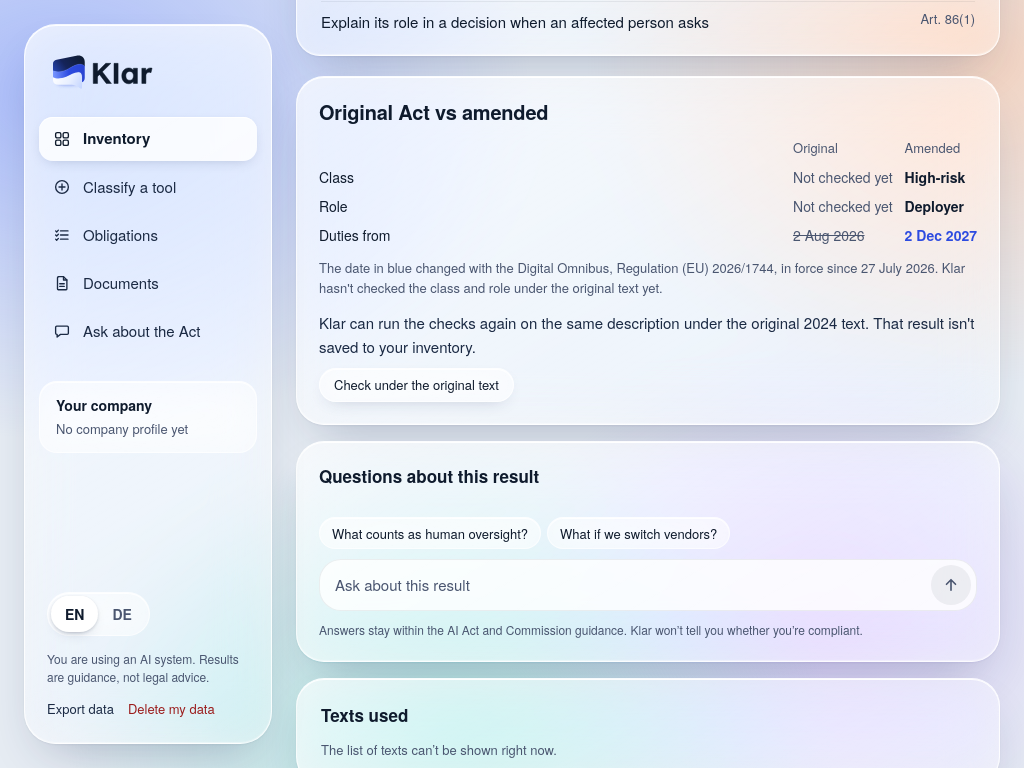
Test: Original Act vs amended, the remaining lines › while the run streams, the button says so and can not start a second run (en)
(page scrolled)
Click the button "Check under the original text". click: {"x": 416, "y": 385}
box: [319,368,514,402]
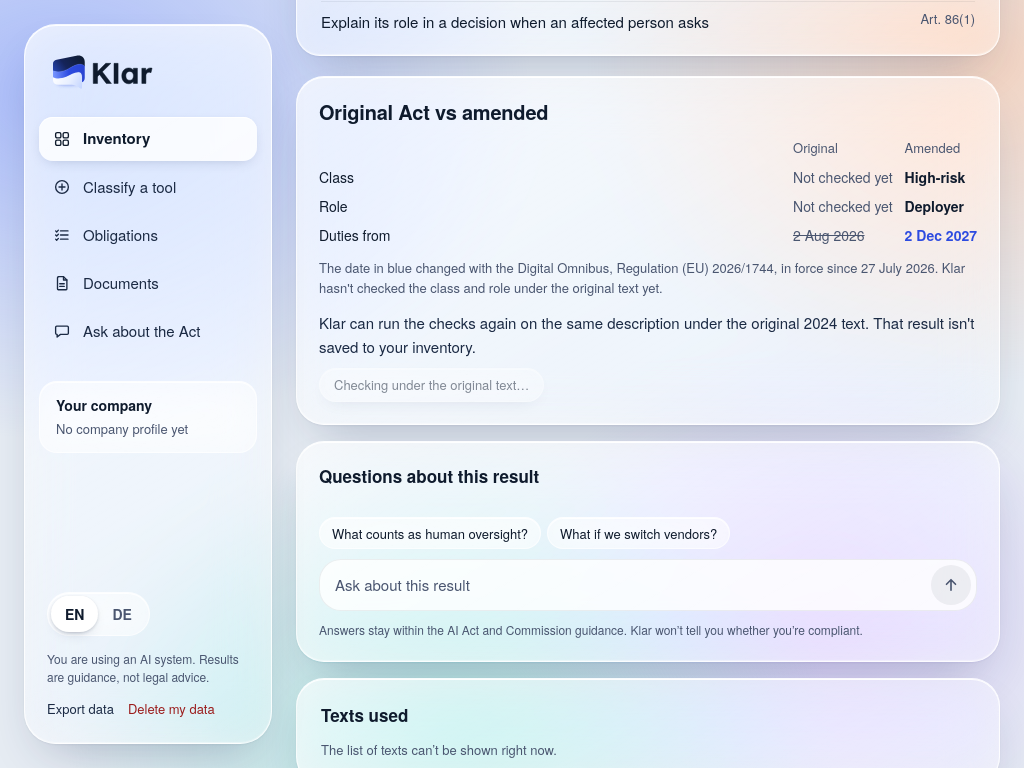
Expected: the button "Checking under the original text…" is disabled, [319,368,544,402]
